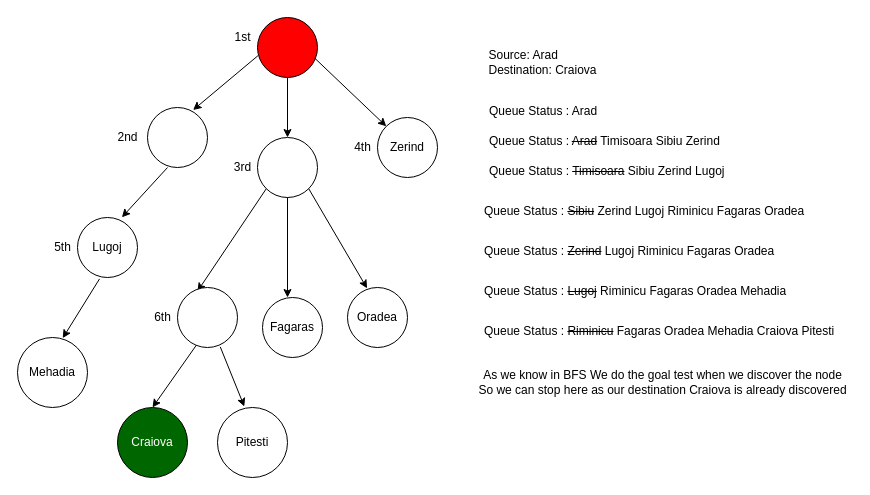
Image size: 870x495. Some labels were removed from this diagram. Each missing label, with the box of its shape:
Arad: (256, 16, 318, 78)
Riminicu: (176, 286, 238, 348)
Sibiu: (256, 136, 318, 198)
Timisoara: (146, 106, 208, 168)
